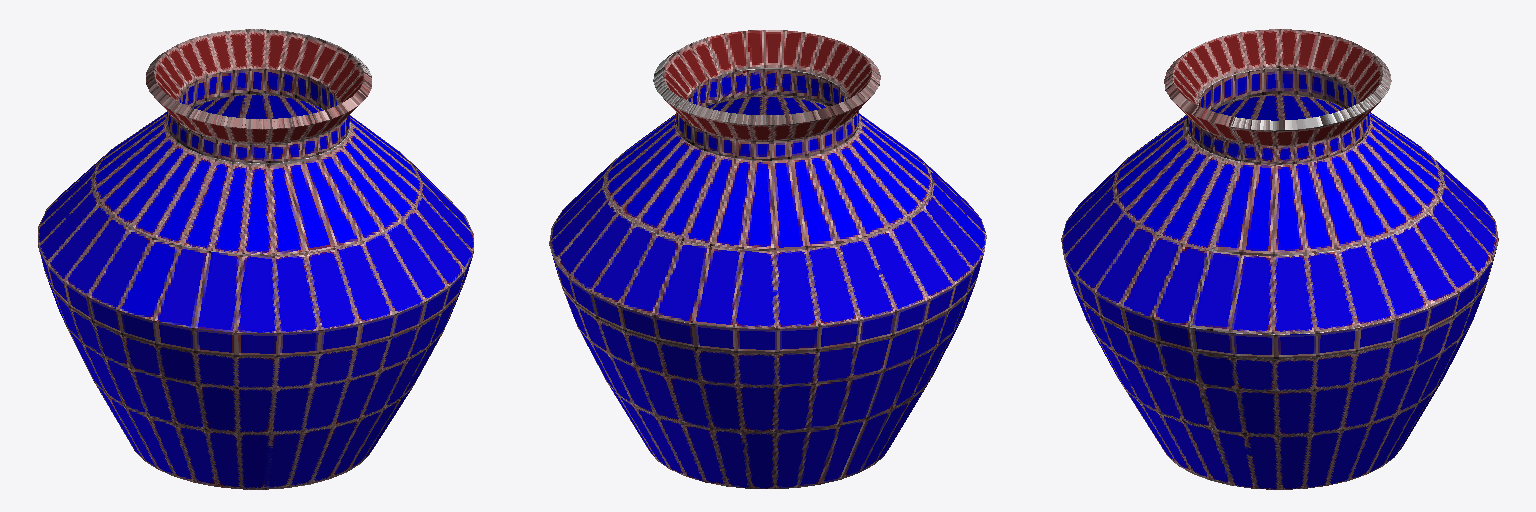
The picture shows the model from 3 angles: view 1: azimuth 30°, elevation 25°; view 2: azimuth 150°, elevation 25°; view 3: azimuth 270°, elevation 25°; orthographic projection.
Parts seen in each view (by area): view 1: Circle; view 2: Circle; view 3: Circle.
Boxes of the visible parts, x1,y1,x2,y2 form: Circle: [38, 29, 473, 489]; Circle: [549, 30, 986, 488]; Circle: [1061, 29, 1498, 489].
Bounding box in the file's own units: 0.6601 × 0.6116 × 0.6601.
1 materials, 1 textured.